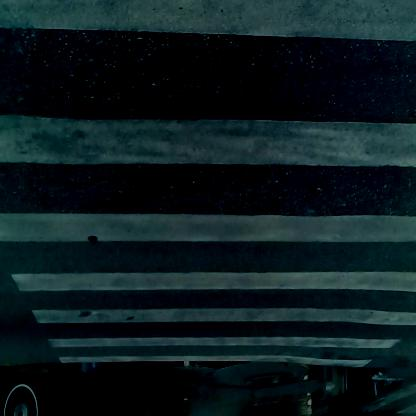crosswalk: (25, 10, 416, 363)
sidewalk: (16, 353, 370, 412)
